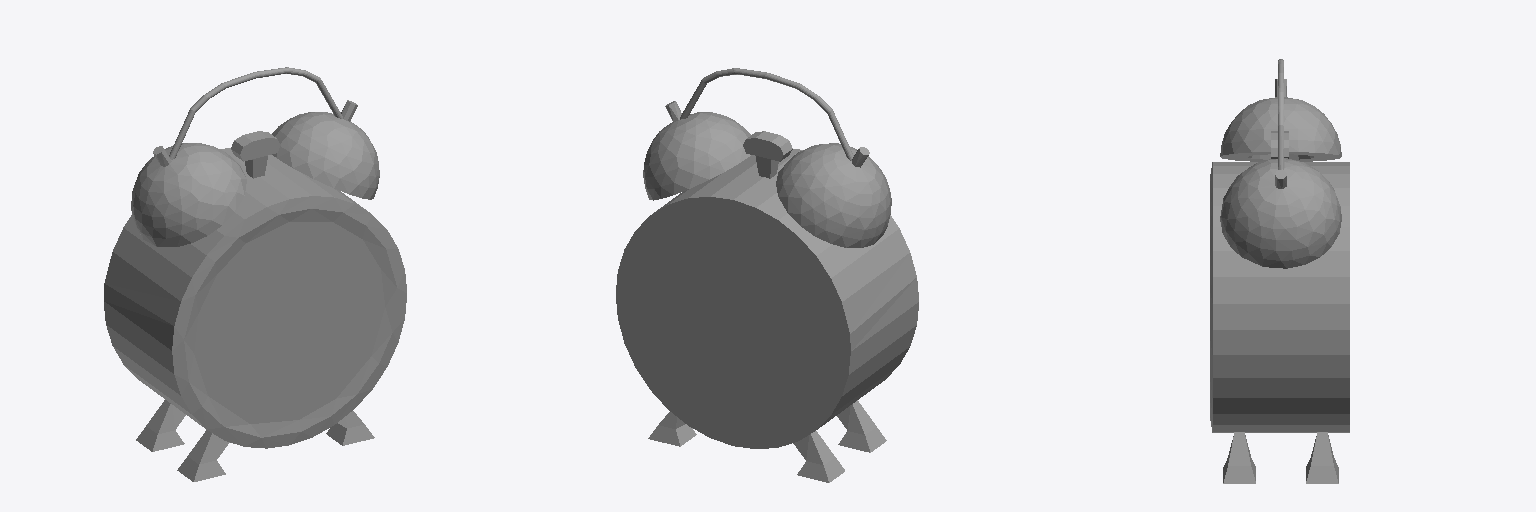
The model's file is clock.obj.
The picture shows the model from 3 angles: view 1: azimuth 30°, elevation 25°; view 2: azimuth 150°, elevation 25°; view 3: azimuth 270°, elevation 25°; orthographic projection.
Parts seen in each view (by area): view 1: Cylinder; view 2: Cylinder; view 3: Cylinder.
Boxes of the visible parts, x1,y1,x2,y2 form: Cylinder: [104, 67, 406, 481]; Cylinder: [616, 68, 918, 482]; Cylinder: [1210, 59, 1349, 483].
Size of the model in its own units: 0.2815 by 0.4195 by 0.1441.